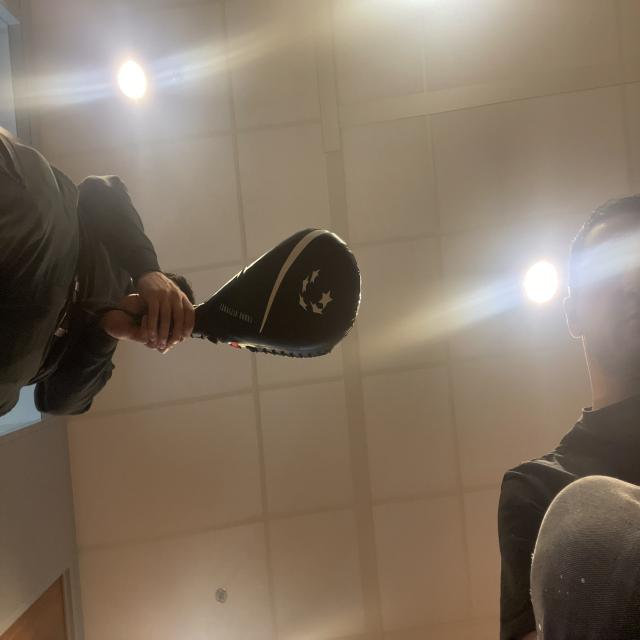paddle: (228, 246, 359, 356)
